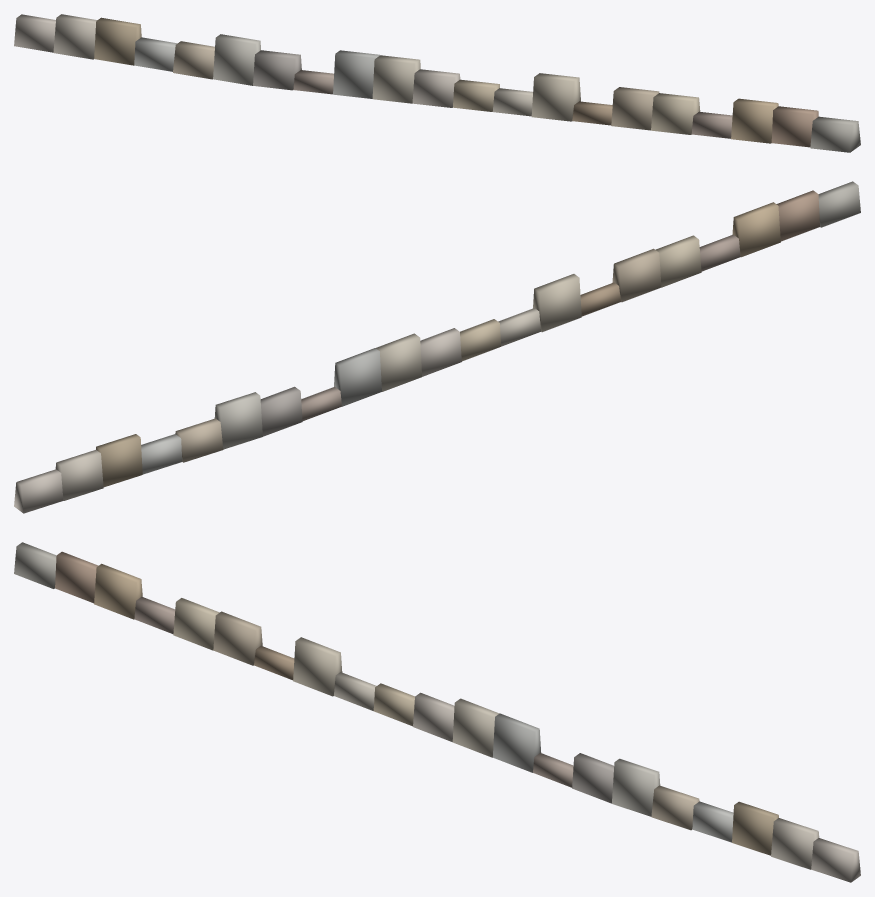
File: farm_0_0_collision.glb
3 views of the same model, one above another, from view 1: azimuth 90°, elevation 25°; view 2: azimuth 150°, elevation 25°; view 3: azimuth 270°, elevation 25° (orthographic).
Visible parts, largest first — view 1: geometry_0; view 2: geometry_0; view 3: geometry_0.
Part boxes in pixels (x1,y1,x2,y2): geometry_0: (14,14,860,152); geometry_0: (14,181,860,513); geometry_0: (14,542,860,882).
Bounding box in the file's own units: 17.59 × 4.87 × 29.24.
